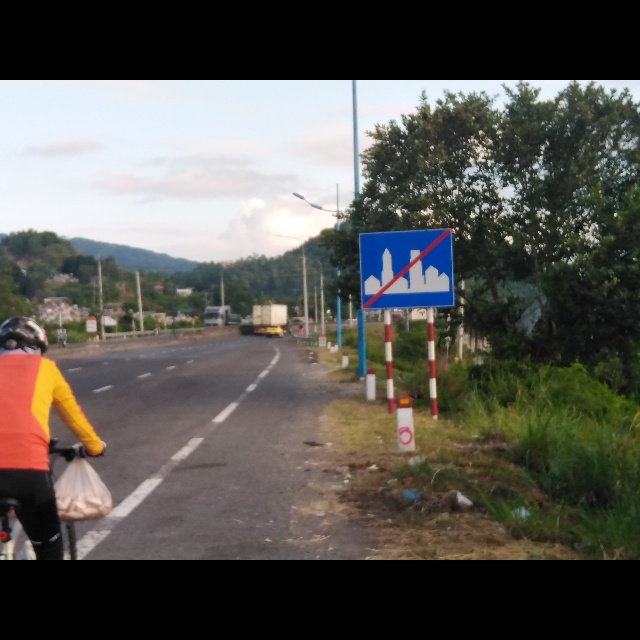Hết khu đông dân cư: (358, 229, 456, 309)
